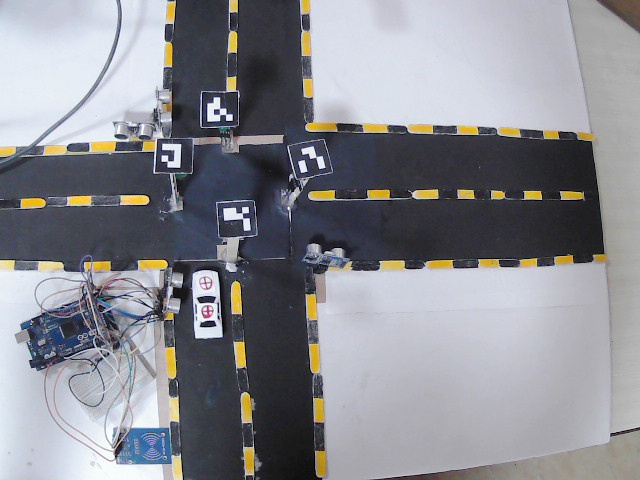aruco_marker: (284, 137, 331, 177), (198, 85, 239, 130), (213, 200, 257, 237), (153, 138, 194, 173)
emergency_vehicle: (189, 268, 226, 341)
uno_breadboard: (14, 289, 129, 373), (60, 336, 162, 424), (109, 422, 176, 471), (301, 245, 348, 271), (161, 268, 186, 314), (154, 86, 173, 133), (111, 119, 155, 138)
